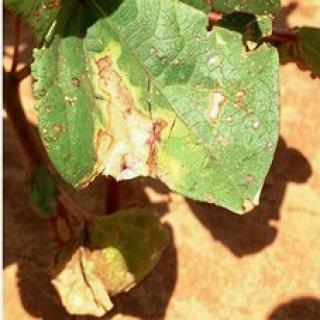wilt: (30, 9, 276, 213)
